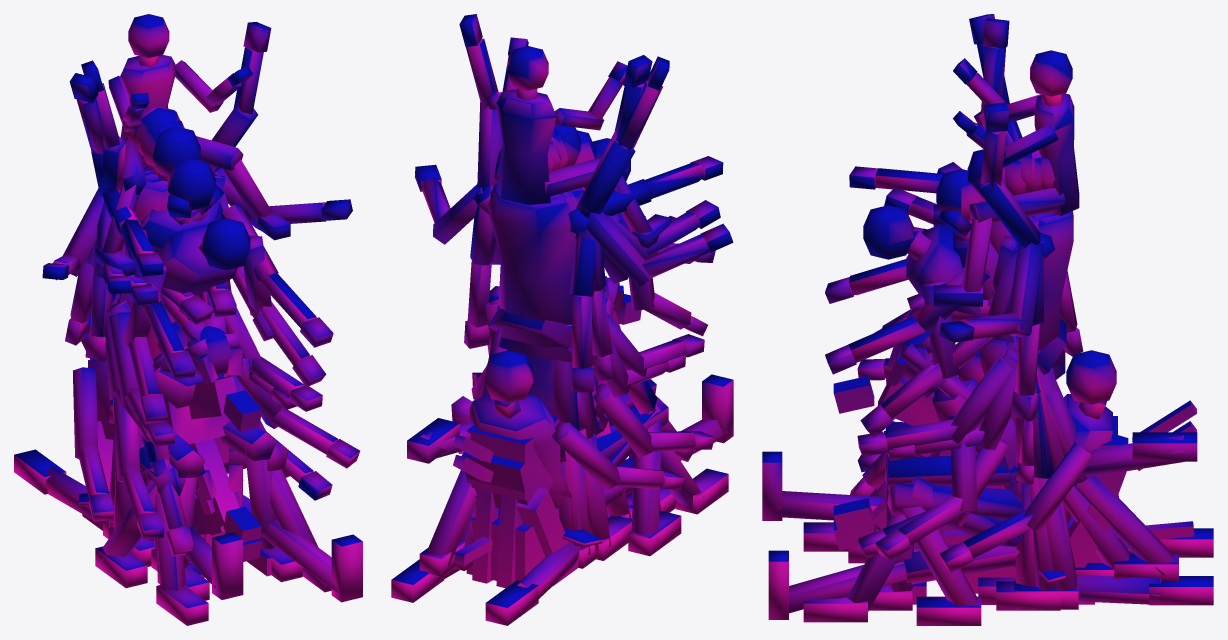
File: figures_kit.glb
3 views of the same model, side by side, from view 1: azimuth 30°, elevation 25°; view 2: azimuth 150°, elevation 25°; view 3: azimuth 270°, elevation 25° (orthographic). The views are drawn at different scales.
Visible parts, largest first — view 1: fig_child_held, fig_photographer, fig_crouch_inspect, fig_sleep_wall, fig_sit_kerb, fig_push_cart, fig_sit_chair, dog_sit, fig_type, fig_barker, fig_mourner, fig_kneel_pray (+10 smaller); view 2: fig_child_held, fig_lean_wall, fig_sleep_wall, fig_barker, fig_carry_basket, fig_sit_kerb, fig_kneel_pray, fig_push_cart, fig_crouch_inspect, dog_sniff, dog_sit, fig_photographer (+9 smaller); view 3: fig_child_held, fig_sleep_wall, fig_photographer, fig_push_cart, fig_crouch_inspect, fig_sit_kerb, fig_lean_wall, fig_barker, fig_kneel_pray, fig_sit_chair, fig_walk, fig_type (+9 smaller).
Part boxes in pixels (x1,y1,x2,y2): fig_child_held: [81, 14, 290, 275]; fig_photographer: [108, 218, 326, 566]; fig_crouch_inspect: [95, 326, 360, 588]; fig_sleep_wall: [73, 293, 362, 602]; fig_sit_kerb: [113, 321, 332, 625]; fig_push_cart: [125, 159, 333, 571]; fig_sit_chair: [104, 293, 302, 600]; dog_sit: [81, 332, 261, 546]; fig_type: [109, 302, 322, 446]; fig_barker: [69, 73, 352, 566]; fig_mourner: [120, 127, 226, 341]; fig_kneel_pray: [14, 293, 238, 525]; fig_child_held: [459, 14, 672, 248]; fig_lean_wall: [407, 149, 595, 568]; fig_sleep_wall: [451, 350, 733, 508]; fig_barker: [415, 56, 669, 558]; fig_carry_basket: [464, 136, 733, 567]; fig_sit_kerb: [592, 383, 728, 514]; fig_kneel_pray: [391, 277, 619, 625]; fig_push_cart: [419, 130, 715, 576]; fig_crouch_inspect: [471, 276, 693, 556]; dog_sniff: [453, 424, 549, 588]; dog_sit: [453, 285, 641, 557]; fig_photographer: [488, 138, 707, 560]; fig_child_held: [933, 18, 1079, 306]; fig_sleep_wall: [762, 350, 1116, 619]; fig_photographer: [860, 205, 1078, 609]; fig_push_cart: [825, 169, 1178, 580]; fig_crouch_inspect: [850, 331, 1023, 625]; fig_sit_kerb: [803, 351, 1022, 622]; fig_lean_wall: [938, 156, 1197, 477]; fig_barker: [939, 14, 1060, 610]; fig_kneel_pray: [900, 336, 1213, 605]; fig_sit_chair: [848, 367, 1018, 610]; fig_walk: [923, 160, 1130, 576]; fig_type: [857, 339, 1015, 456].
Size of the model in its own units: 1.3 by 2.02 by 1.56.
